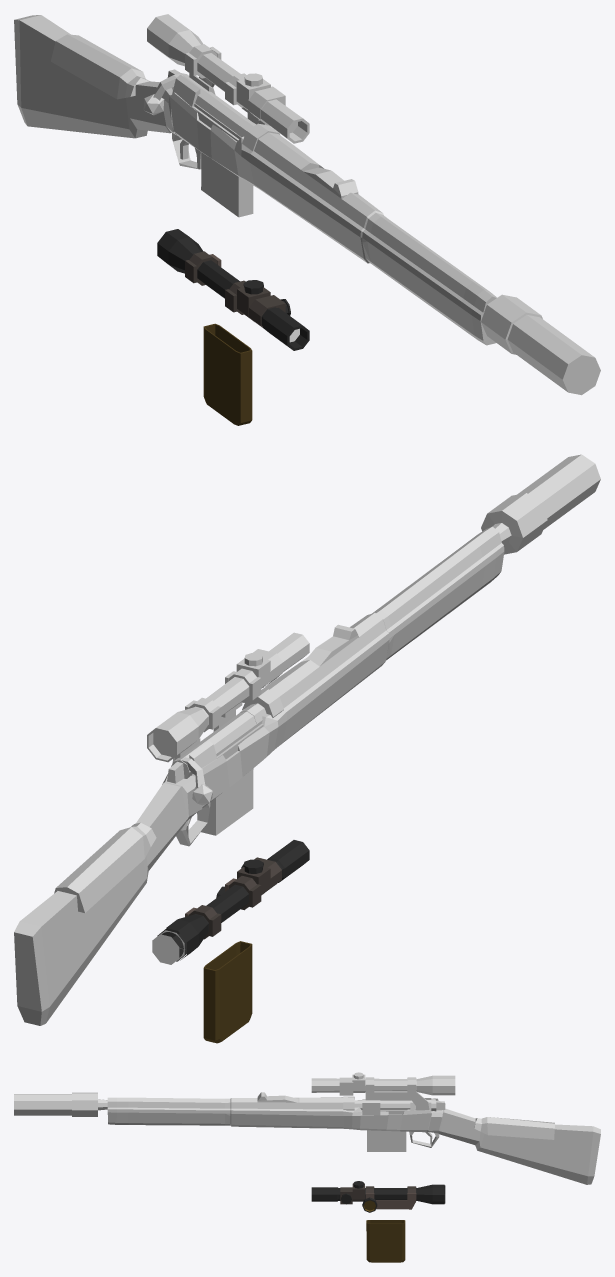
The model's file is LeeEnfieldBlack_Gun.glb.
3 views of the same model, one above another, from view 1: azimuth 30°, elevation 25°; view 2: azimuth 150°, elevation 25°; view 3: azimuth 270°, elevation 25° (orthographic). The views are drawn at different scales.
Parts seen in each view (by area): view 1: EnfieldSLowPoly, EnfieldSScope, EnfieldSMag; view 2: EnfieldSLowPoly, EnfieldSScope, EnfieldSMag; view 3: EnfieldSLowPoly, EnfieldSScope, EnfieldSMag.
Part boxes in pixels (<box>): EnfieldSLowPoly: <box>14,14,600,395</box>; EnfieldSScope: <box>157,229,309,350</box>; EnfieldSMag: <box>203,323,252,425</box>; EnfieldSLowPoly: <box>14,454,600,1025</box>; EnfieldSScope: <box>157,840,309,961</box>; EnfieldSMag: <box>203,941,252,1043</box>; EnfieldSLowPoly: <box>14,1072,600,1184</box>; EnfieldSScope: <box>311,1181,445,1212</box>; EnfieldSMag: <box>366,1220,405,1262</box>.
Bounding box in the file's own units: 0.0664 × 0.4151 × 1.19.
5 materials, 1 textured.
